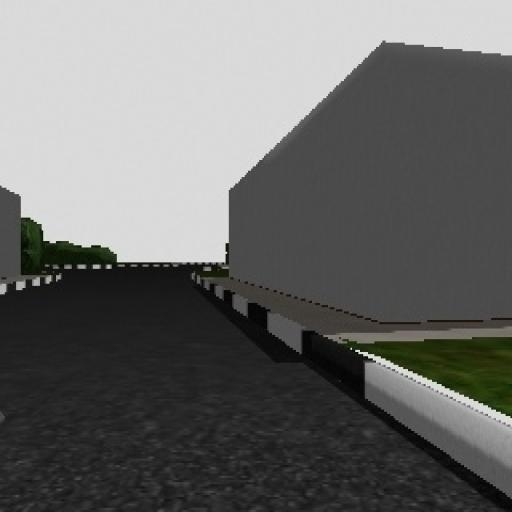huskya200: (0, 384, 11, 434)
